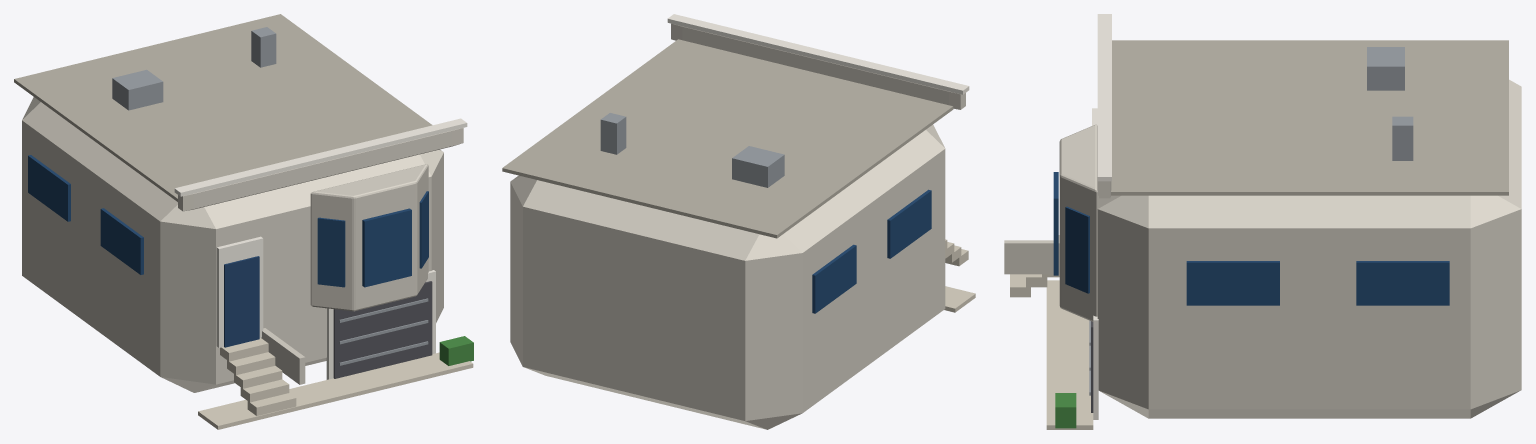
The model's file is sunset_w9_plain_bay_m.glb.
3 views of the same model, side by side, from view 1: azimuth 30°, elevation 25°; view 2: azimuth 150°, elevation 25°; view 3: azimuth 270°, elevation 25° (orthographic). The views are drawn at different scales.
Visible parts, largest first — view 1: walls, roofslab, bay, gdoor, patio, pp1, bw, pcap, door, dfr, bwa, sb (+12 smaller); view 2: walls, roofslab, pp1, pcap, sb, sb.002, hvac, pipe, patio; view 3: walls, roofslab, bay, patio, sb.001, sb.003, pcap, bwa.001, srail, hvac, pipe, hedge (+2 smaller).
Boxes of the visible parts, x1,y1,x2,y2 form: walls: (22,97,443,392); roofslab: (14,14,432,201); bay: (310,164,428,311); gdoor: (333,281,432,378); patio: (198,352,473,429); pp1: (178,128,463,211); bw: (362,208,411,287); pcap: (174,118,467,196); door: (224,256,259,347); dfr: (216,236,263,347); bwa: (317,217,345,287); sb: (100,208,143,274); walls: (510,124,945,429); roofslab: (502,39,953,238); pp1: (671,23,965,109); pcap: (667,14,969,94); sb: (887,189,931,258); sb.002: (812,244,856,313); hvac: (732,146,784,187); pipe: (600,113,626,154); patio: (944,286,975,312); walls: (1097,79,1521,418); roofslab: (1111,40,1508,195); bay: (1059,124,1097,321); patio: (1046,280,1093,429); sb.001: (1186,261,1279,305); sb.003: (1356,261,1449,305); pcap: (1097,14,1111,181); bwa.001: (1065,206,1089,293); srail: (1004,240,1059,274); hvac: (1367,47,1404,90); pipe: (1392,116,1413,160); hedge: (1055,393,1076,428).
Size of the model in its own units: 9.2 by 7.2 by 12.2.
